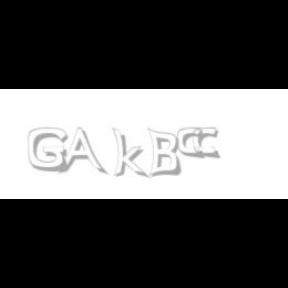A: (57, 128, 105, 176)
B: (147, 128, 181, 178)
G: (28, 128, 68, 172)
c: (192, 128, 222, 160), (178, 128, 206, 160)
k: (112, 128, 150, 180)
